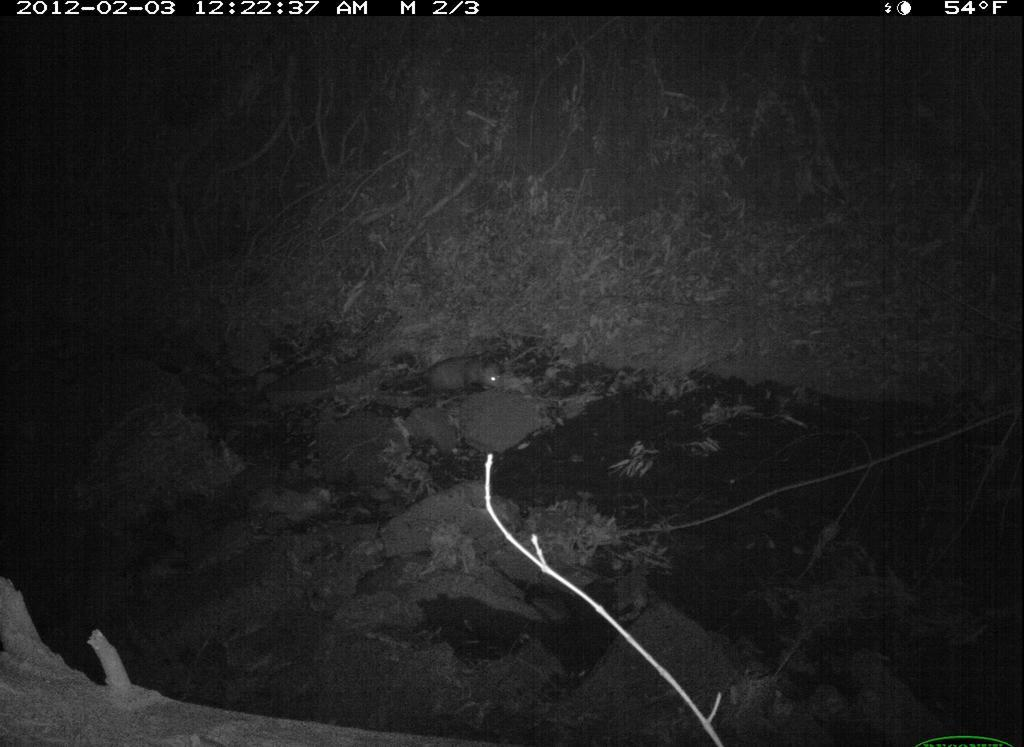opossum: (399, 336, 519, 406)
